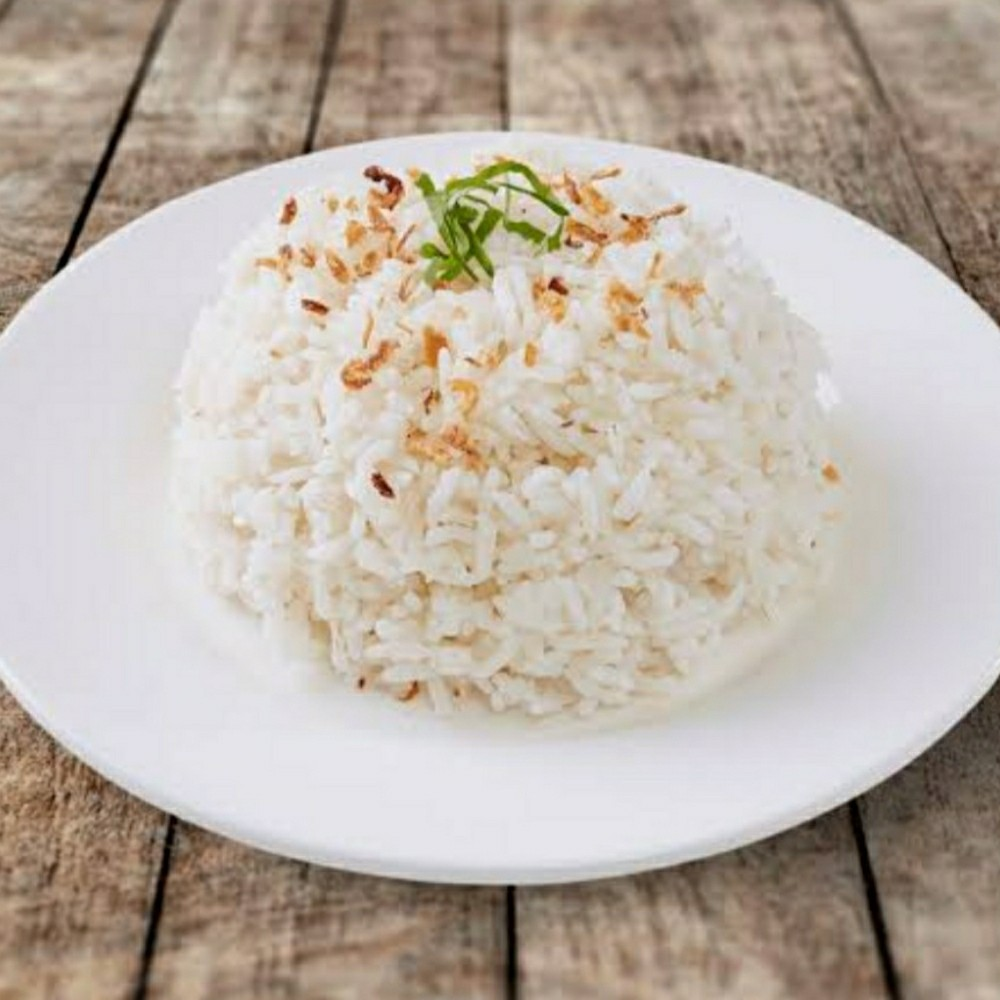Nasi Putih: (137, 128, 824, 734)
